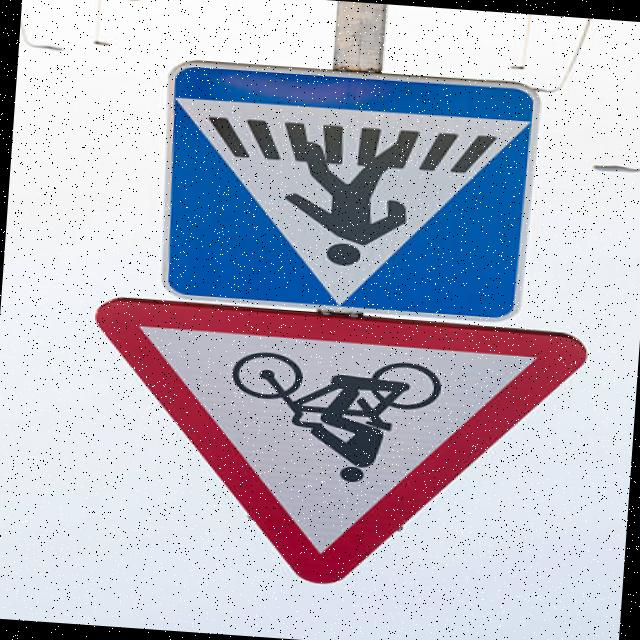crosswalk: (137, 45, 548, 328)
